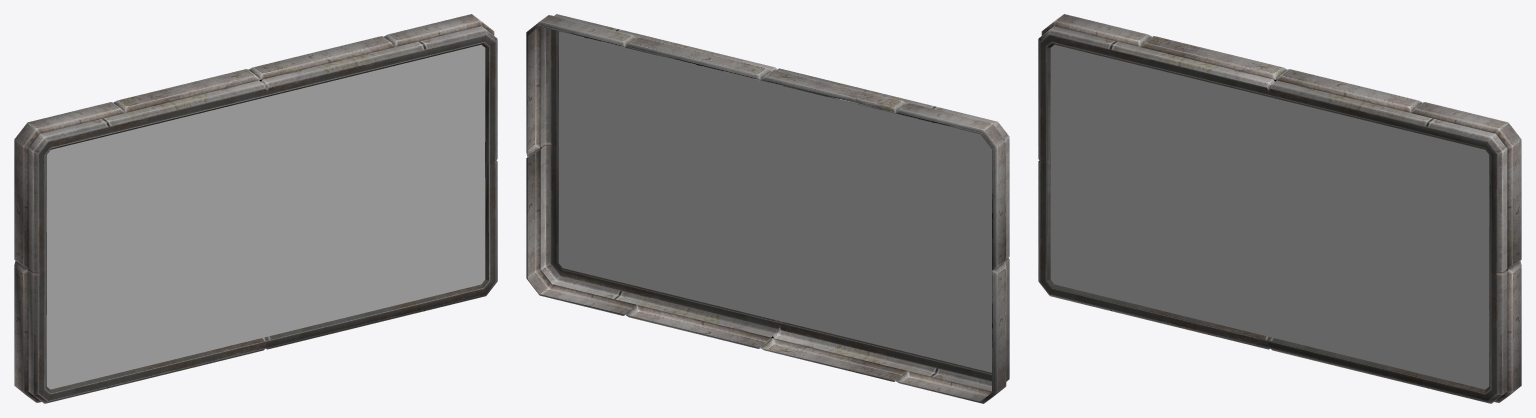
File: xray_lightbox_theta.dae
3 views of the same model, side by side, from view 1: azimuth 30°, elevation 25°; view 2: azimuth 150°, elevation 25°; view 3: azimuth 330°, elevation 25° (orthographic).
Parts seen in each view (by area): view 1: screen, Mesh; view 2: screen, Mesh; view 3: screen, Mesh.
Part boxes in pixels (x1,y1,x2,y2): screen: [46, 44, 485, 389]; Mesh: [14, 14, 497, 403]; screen: [558, 31, 991, 372]; Mesh: [526, 14, 1009, 403]; screen: [1050, 44, 1489, 389]; Mesh: [1038, 14, 1521, 403].
Bounding box in the file's own units: 3.4 × 1.89 × 0.2456.
